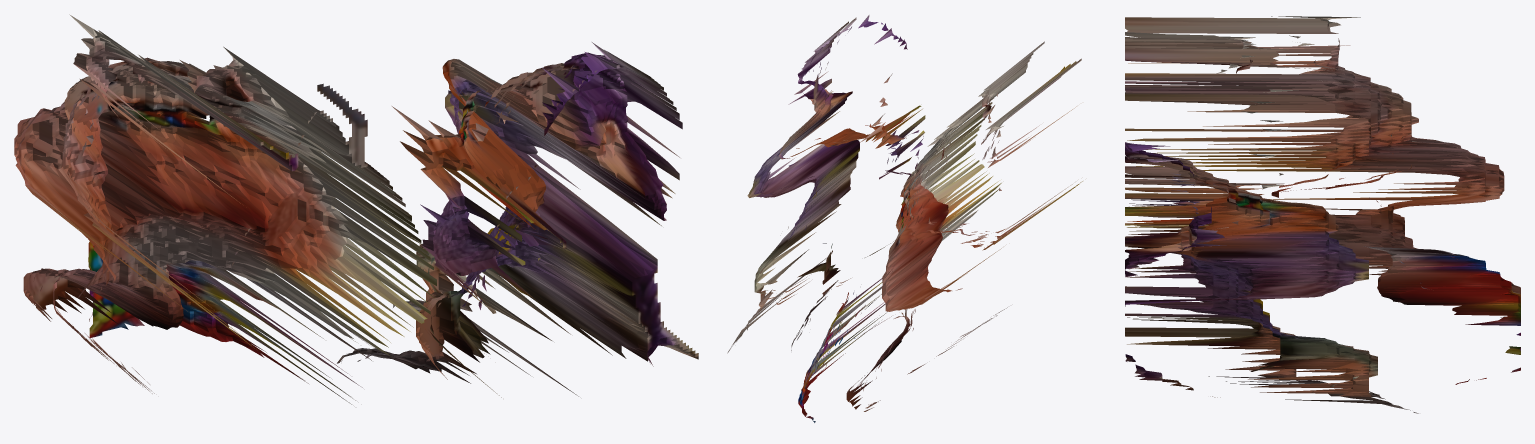
The model's file is frame_00378.glb.
The picture shows the model from 3 angles, left to right: view 1: azimuth 30°, elevation 25°; view 2: azimuth 150°, elevation 25°; view 3: azimuth 270°, elevation 25°; orthographic projection. The views are drawn at different scales.
Visible parts, largest first — view 1: geometry_0; view 2: geometry_0; view 3: geometry_0.
Boxes of the visible parts, left/top/right/bottom form: geometry_0: left=14, top=14, right=698, bottom=404; geometry_0: left=727, top=15, right=1082, bottom=422; geometry_0: left=1125, top=16, right=1520, bottom=413.
Size of the model in its own units: 0.1466 by 0.1455 by 0.16.
Materials: 1 (1 with a texture image).
